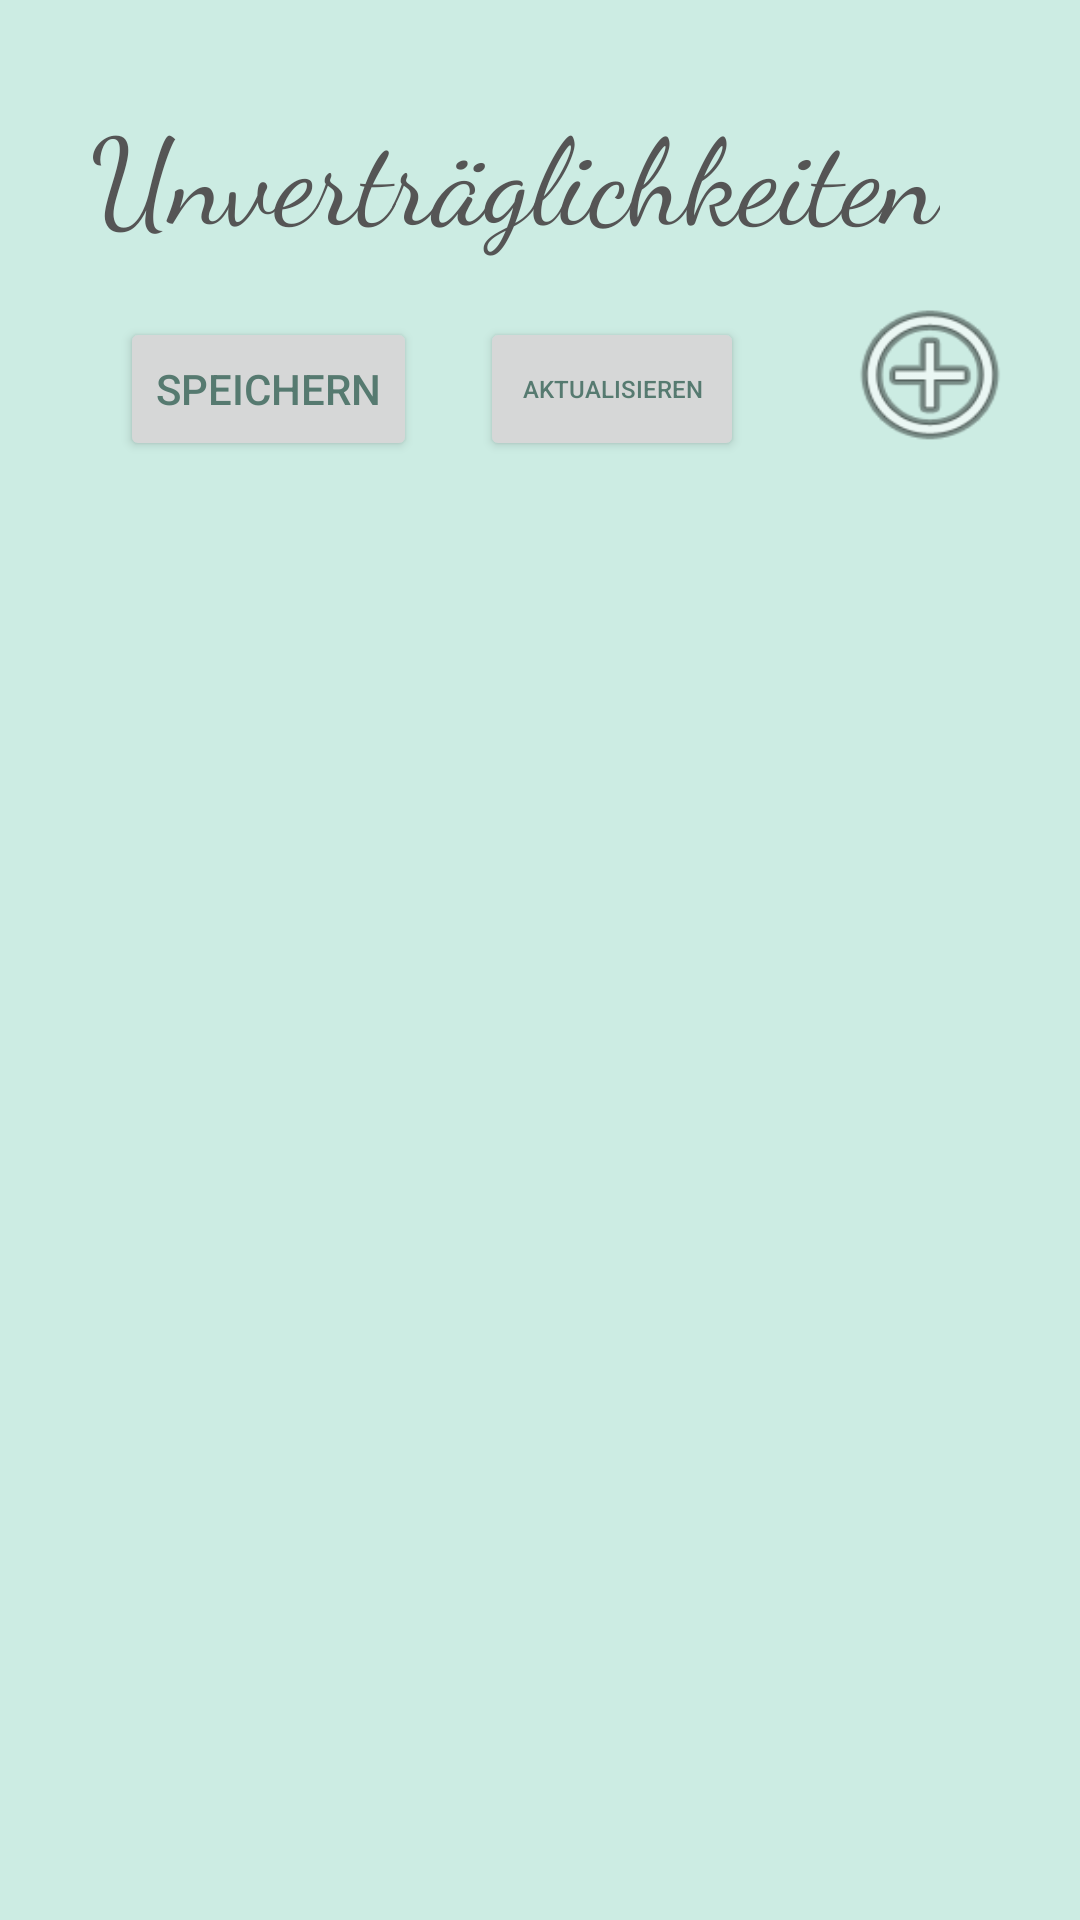

Icons on this 1080px×1920px Android screen, each with the point to tap as (x,y):
add: (930,375)
